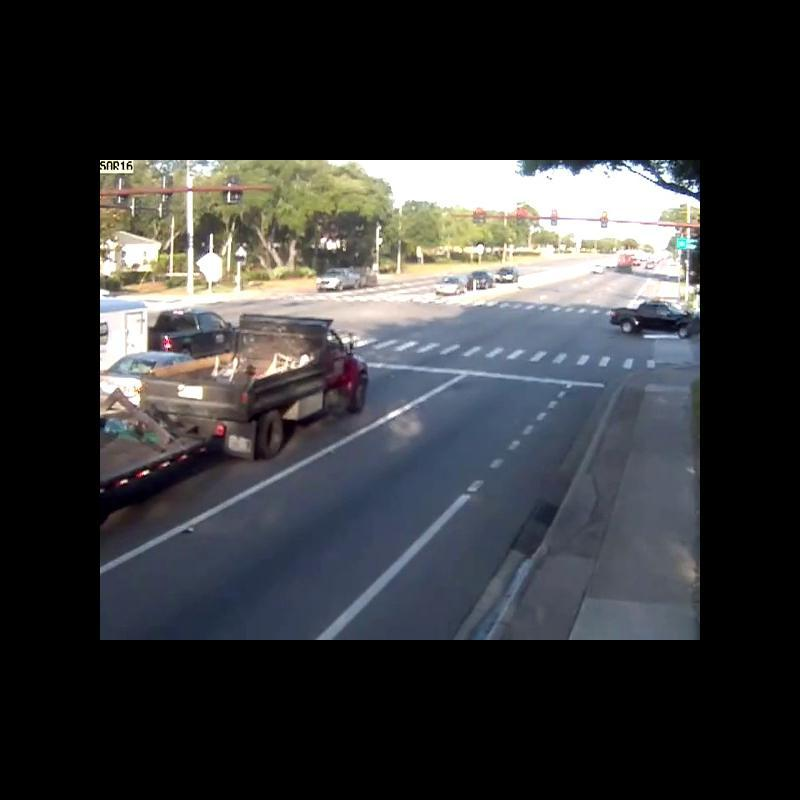car: (146, 308, 234, 353), (612, 297, 700, 336), (100, 302, 148, 352), (314, 268, 376, 290), (432, 274, 465, 300), (608, 254, 636, 276), (469, 271, 494, 292), (496, 263, 520, 284), (589, 262, 604, 278), (642, 260, 656, 268)
truck: (135, 315, 374, 456)
